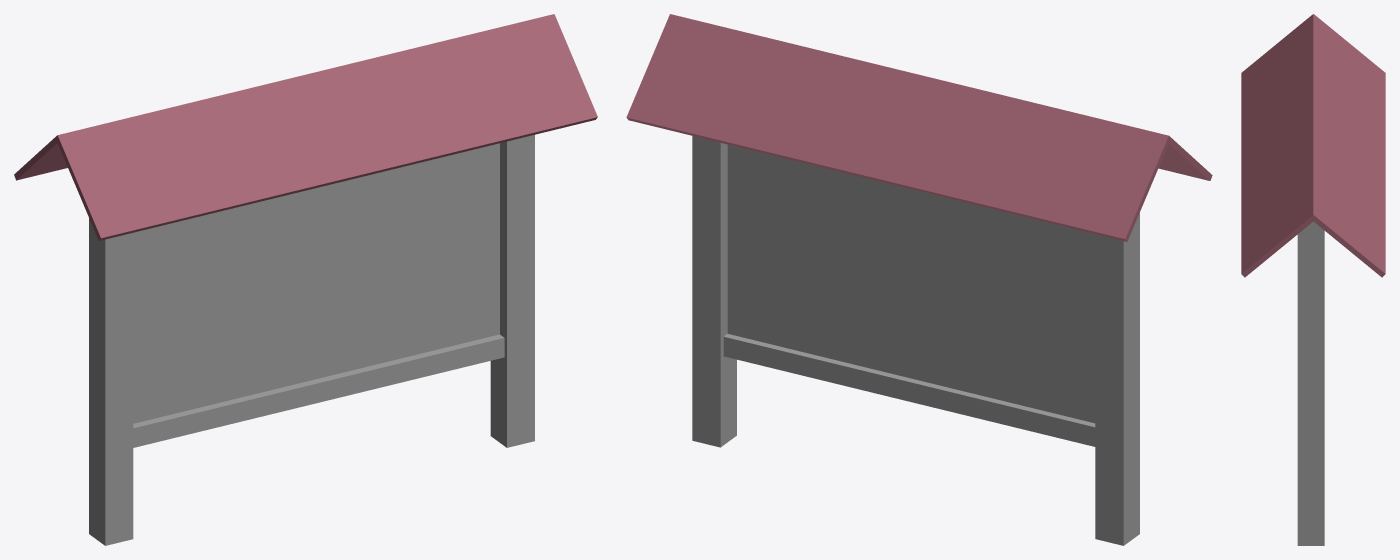
File: informationBoard.obj
The picture shows the model from 3 angles, left to right: view 1: azimuth 30°, elevation 25°; view 2: azimuth 150°, elevation 25°; view 3: azimuth 270°, elevation 25°; orthographic projection. The views are drawn at different scales.
Parts seen in each view (by area): view 1: Cube.002_Cube.008, Cube.001_Cube.007, poteau_Cube.001, poteau.001_Cube.003, poteau.003_Cube.005, Cube_Cube.006; view 2: Cube.002_Cube.008, Cube_Cube.006, poteau_Cube.001, poteau.001_Cube.003, poteau.003_Cube.005, Cube.001_Cube.007; view 3: Cube_Cube.006, Cube.001_Cube.007, poteau.001_Cube.003.
Boxes of the visible parts, x1,y1,x2,y2 form: Cube.002_Cube.008: (133,143,499,423); Cube.001_Cube.007: (56,14,597,240); poteau_Cube.001: (89,218,133,545); poteau.001_Cube.003: (490,135,534,447); poteau.003_Cube.005: (133,334,504,447); Cube_Cube.006: (14,14,553,180); Cube.002_Cube.008: (727,144,1095,423); Cube_Cube.006: (626,14,1170,241); poteau_Cube.001: (1095,212,1139,545); poteau.001_Cube.003: (692,136,736,447); poteau.003_Cube.005: (723,333,1095,446); Cube.001_Cube.007: (670,14,1212,180); Cube_Cube.006: (1311,14,1385,277); Cube.001_Cube.007: (1241,14,1315,277); poteau.001_Cube.003: (1297,221,1324,545).
Size of the model in its own units: 5.3 by 4.21 by 1.61.
